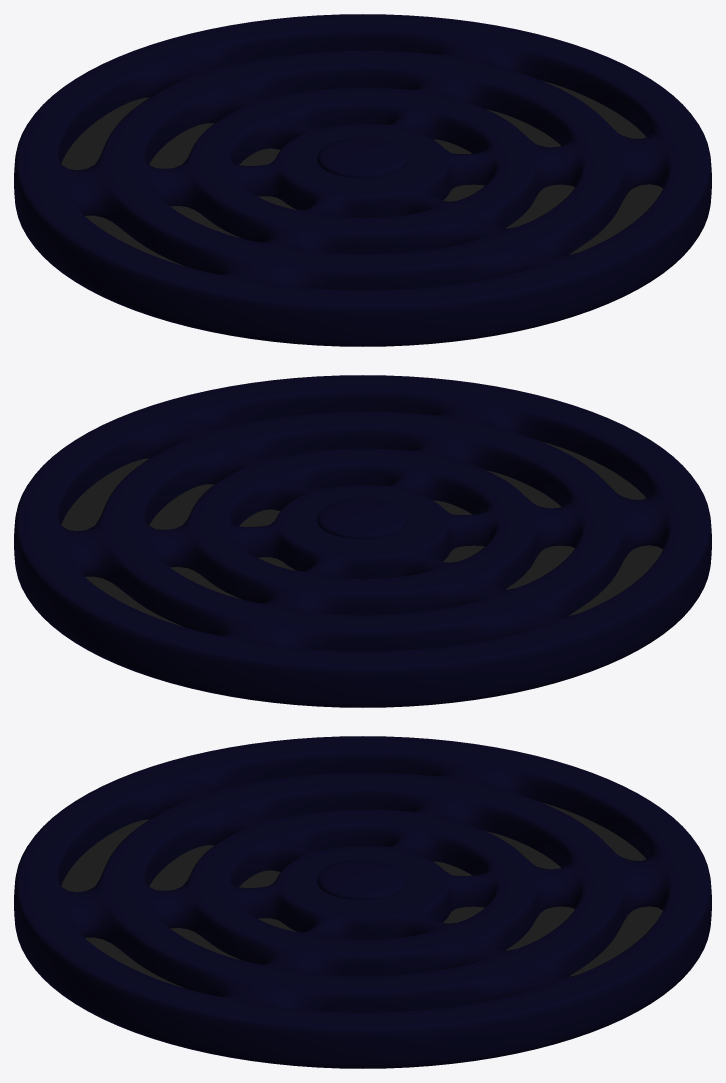
File: alcantarillaTapa.fbx
3 views of the same model, one above another, from view 1: azimuth 30°, elevation 25°; view 2: azimuth 150°, elevation 25°; view 3: azimuth 270°, elevation 25° (orthographic).
Visible parts, largest first — view 1: Alcantarilla; view 2: Alcantarilla; view 3: Alcantarilla.
Part boxes in pixels (left/top/right/bottom): Alcantarilla: left=14, top=14, right=711, bottom=346; Alcantarilla: left=14, top=375, right=711, bottom=707; Alcantarilla: left=14, top=736, right=711, bottom=1068.
Bounding box in the file's own units: 636 × 48.77 × 636.
